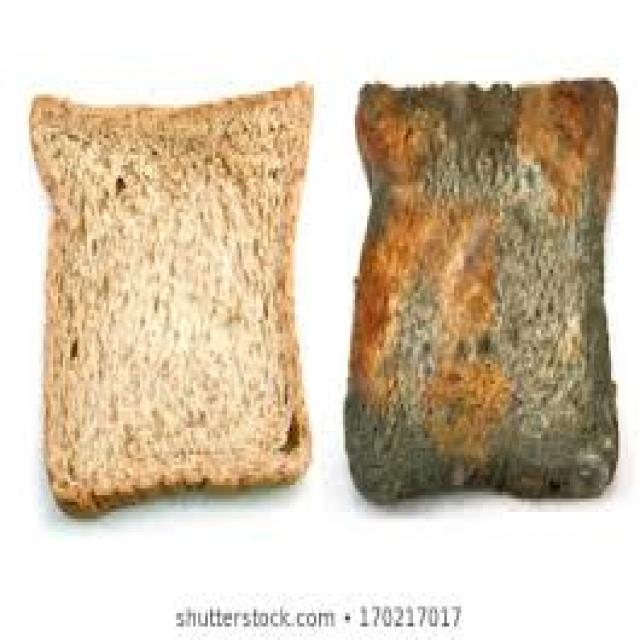organic waste: (26, 78, 306, 516), (340, 77, 616, 502)
